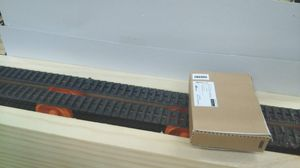box2: (185, 70, 270, 154)
